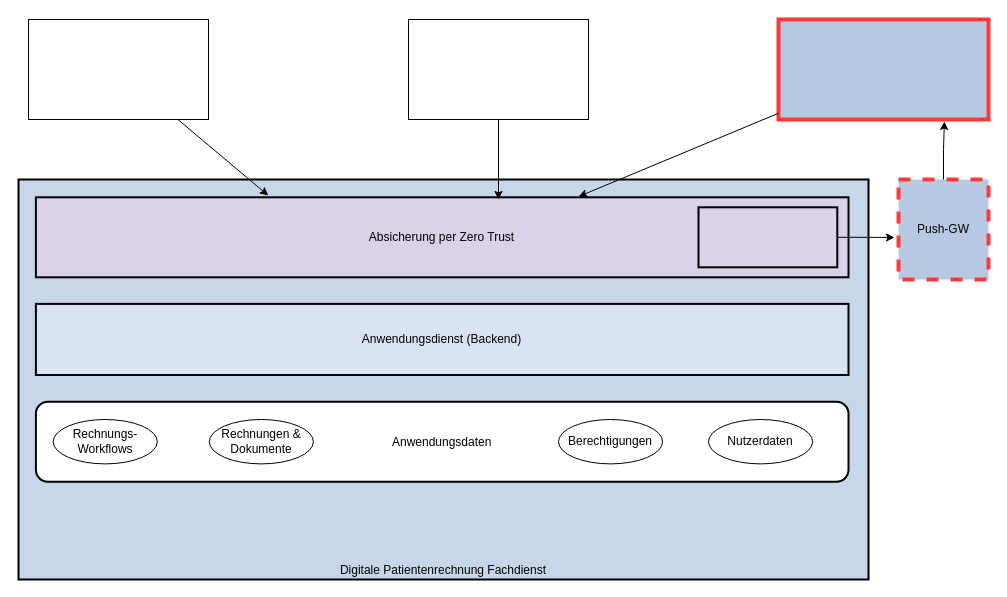
The diagram is 1007 pixels wide and 597 high, and some of its shapes have lost their labels. Here are the shapes that lost their labels. From the top down, the centre of each, then its label:
At [118,69]: "Primärsystem Rechnungsersteller (LEI/ADL)".
At [498,69]: "IT-System Kostenträger".
At [883,69]: "App mit DiPag Modul".
At [767,237]: "Zeta Notification Service".
